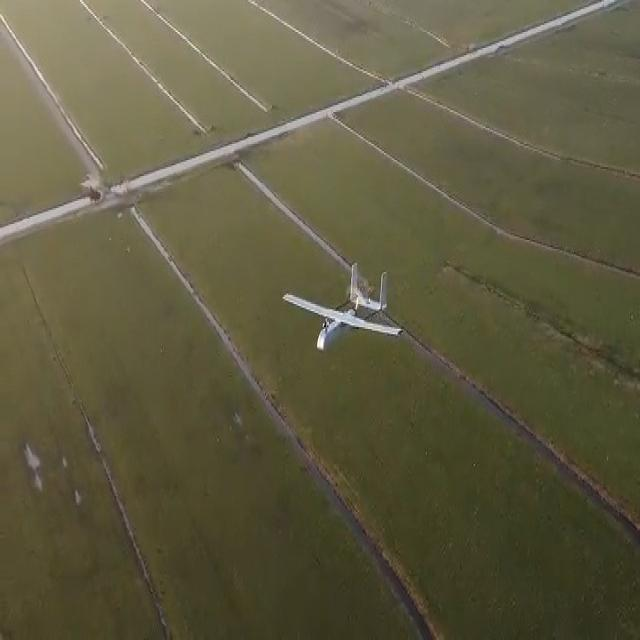iha: (316, 287, 370, 329)
